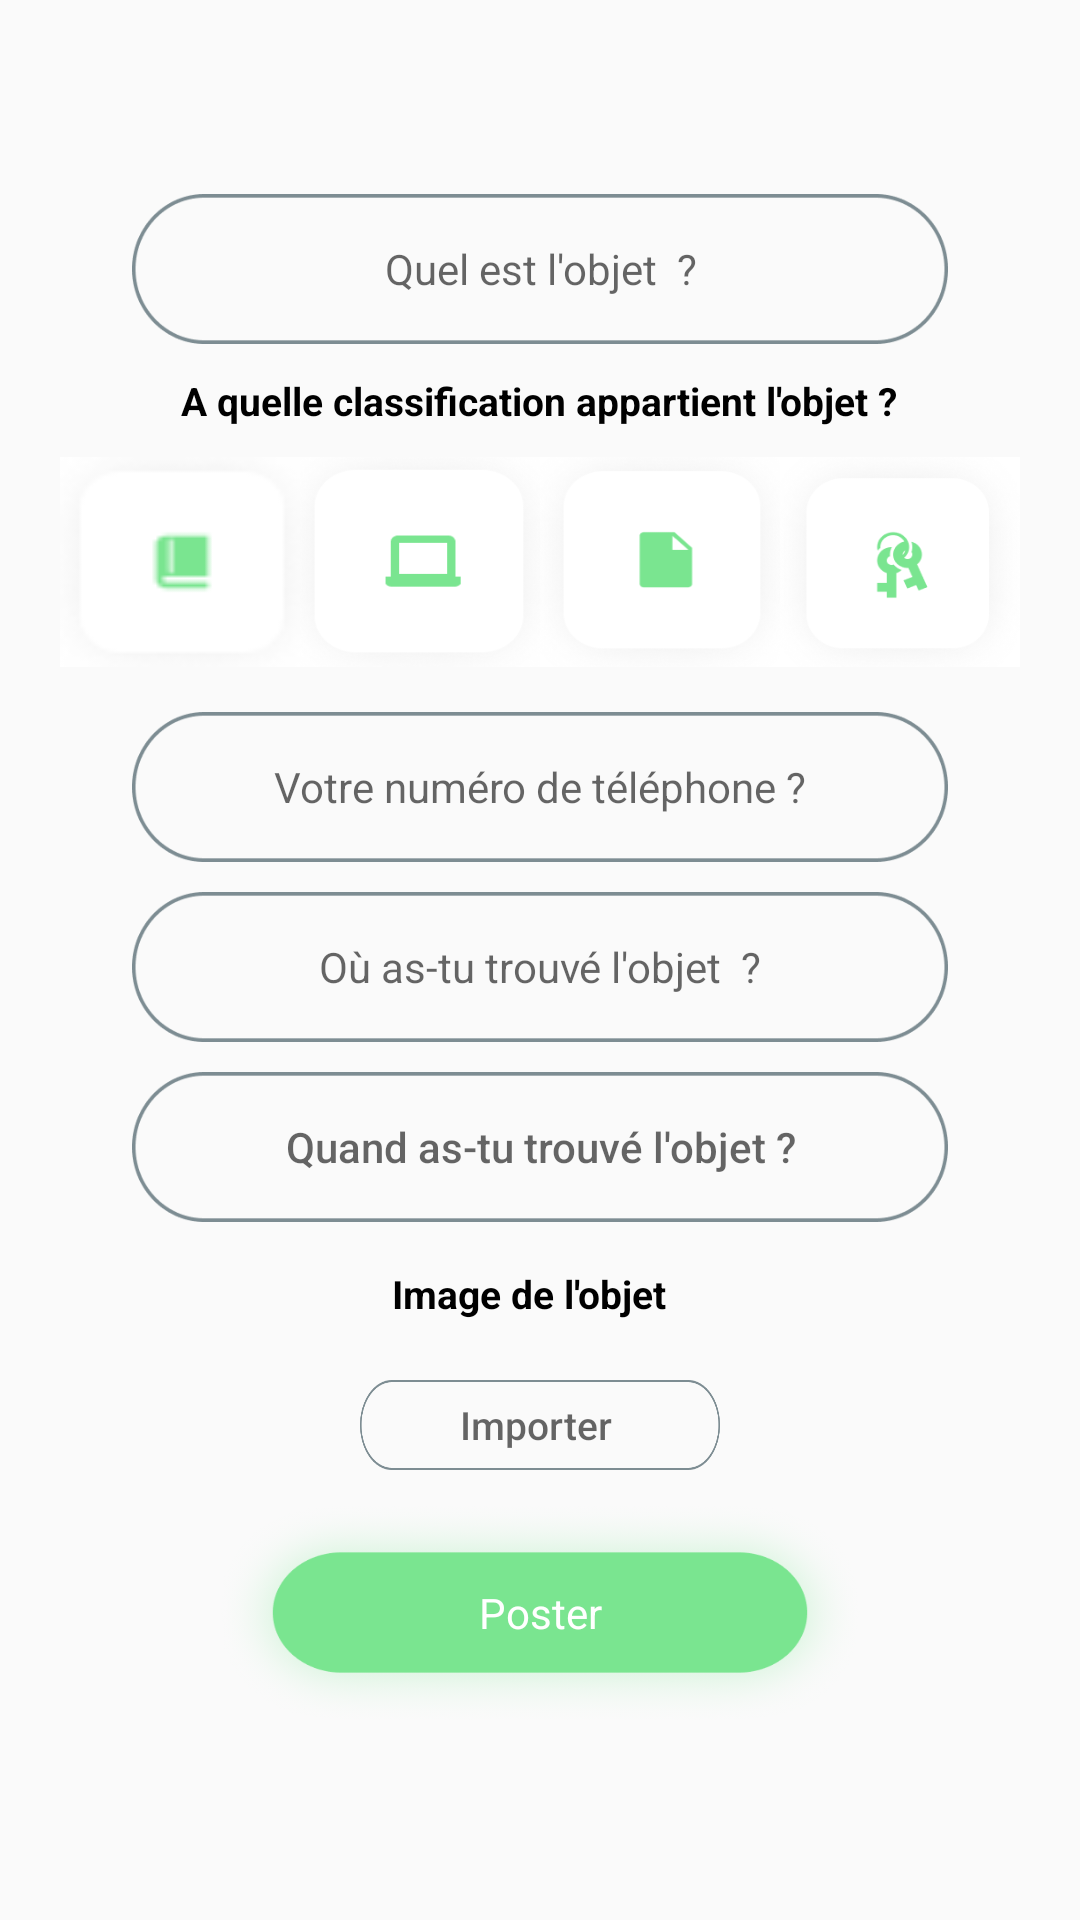

Icon bounding boxes for this 1080×1920 phone screenshot, format (x1, y1, x2, y2):
doc: (639, 532, 693, 588)
electro: (385, 535, 461, 587)
